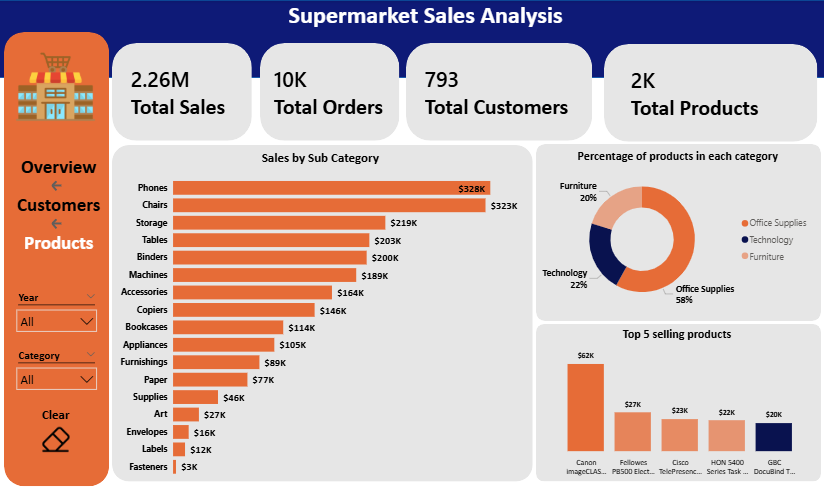

Layout of this report page (visuals, bound fields, positions):
{"tool":"powerbi","page":{"name":" Products","canvas":[1286,750],"ordinal":2},"visuals":[{"type":"shape","box":[9.7,0,1276.3,120],"z":0},{"type":"shape","box":[837,222,439.5,273],"z":0,"group":"g5"},{"type":"shape","box":[942.2,68.1,329.2,150.8],"z":1000},{"type":"donutChart","title":"Percentage of products in each category","fields":{"Y":["CountNonNull(Products.Product Name)"],"Category":["Products.Category"]},"box":[843.6,228.5,424.7,258.4],"z":1000,"group":"g5"},{"type":"shape","box":[837,499.5,439.5,243],"z":1000,"group":"g6"},{"type":"shape","box":[183.3,66.6,215.7,150.8],"z":1005,"group":"g1"},{"type":"shape","box":[411.9,66.6,215,150.8],"z":1006,"group":"g2"},{"type":"shape","box":[637.3,66.6,287.1,150.8],"z":1007,"group":"g3"},{"type":"cardVisual","fields":{"Data":["Measure.Total Sales"]},"box":[183.3,79.6,215.7,126.5],"z":1010,"group":"g1"},{"type":"cardVisual","fields":{"Data":["Measure.Number of orders"]},"box":[403.8,79.6,228.7,126.5],"z":1011,"group":"g2"},{"type":"cardVisual","fields":{"Data":["Measure.Number of Customers"]},"box":[637.3,79.6,300,126.5],"z":1012,"group":"g3"},{"type":"cardVisual","fields":{"Data":["Measure.Number of Products"]},"box":[954,79.5,331.5,126],"z":2000},{"type":"shape","box":[16.2,48.7,162.2,700.6],"z":3000},{"type":"shape","title":"Supermarket Sales Analysis","box":[210.8,0,911.4,43.8],"z":4000},{"type":"shape","title":"Overview","box":[15.1,238.4,171.9,35.7],"z":5000},{"type":"shape","title":"Customers","box":[15.1,297.6,171.9,35.7],"z":6000},{"type":"shape","title":"Products","box":[15.1,356.8,171.9,35.7],"z":7000},{"type":"group","id":"g1","title":"Group 1","box":[183.3,66.6,215.7,150.8],"z":8000},{"type":"group","id":"g2","title":"Group 2","box":[403.8,66.6,228.7,150.8],"z":9000},{"type":"group","id":"g3","title":"Group 3","box":[637.3,66.6,300,150.8],"z":10000},{"type":"group","id":"g4","title":"Group 4","box":[183,224.1,648.9,522.9],"z":11000},{"type":"shape","box":[183,224.1,648.9,519.1],"z":11000,"group":"g4"},{"type":"group","id":"g5","title":"Group 5","box":[837,222,439.5,273],"z":12000},{"type":"clusteredBarChart","title":"Sales by Sub Category","fields":{"Category":["Products.Sub-Category"],"Y":["Sum(Order Details.Sales)"]},"box":[189,231.9,630,515.2],"z":12000,"group":"g4"},{"type":"group","id":"g6","title":"Group 6","box":[837,499.5,439.5,243],"z":13000},{"type":"image","box":[35.7,48.7,121.6,168.7],"z":14000},{"type":"slicer","fields":{"Values":["Order Details.Year"]},"box":[25.9,442.7,144.3,71.4],"z":15000},{"type":"slicer","fields":{"Values":["Products.Category"]},"box":[25.9,531.9,144.3,82.7],"z":16000},{"type":"image","title":"Clear","box":[56.8,627.6,79.5,71.4],"z":17000},{"type":"actionButton","box":[87,333,70.5,24],"z":18000},{"type":"actionButton","box":[87,274.5,70.5,24],"z":19000},{"type":"columnChart","title":"Top 5 selling products ","fields":{"Y":["Sum(Order Details.Sales)"],"Category":["Products.Product Name"]},"box":[841.5,502.5,426,240],"z":19500}]}

Visuals, with their boxes in screenshot pixels (x1, y1, x2, y2), scaled from the page's 1286x750 canvas onto the 824x490 screenshot:
shape: {"left": 6, "top": 0, "right": 823, "bottom": 78}
shape: {"left": 536, "top": 145, "right": 818, "bottom": 323}
shape: {"left": 604, "top": 44, "right": 815, "bottom": 143}
"Percentage of products in each category" donutChart: {"left": 541, "top": 149, "right": 813, "bottom": 318}
shape: {"left": 536, "top": 326, "right": 818, "bottom": 485}
shape: {"left": 117, "top": 44, "right": 256, "bottom": 142}
shape: {"left": 264, "top": 44, "right": 402, "bottom": 142}
shape: {"left": 408, "top": 44, "right": 592, "bottom": 142}
cardVisual - Measure.Total Sales: {"left": 117, "top": 52, "right": 256, "bottom": 135}
cardVisual - Measure.Number of orders: {"left": 259, "top": 52, "right": 405, "bottom": 135}
cardVisual - Measure.Number of Customers: {"left": 408, "top": 52, "right": 601, "bottom": 135}
cardVisual - Measure.Number of Products: {"left": 611, "top": 52, "right": 823, "bottom": 134}
shape: {"left": 10, "top": 32, "right": 114, "bottom": 489}
"Supermarket Sales Analysis" shape: {"left": 135, "top": 0, "right": 719, "bottom": 29}
"Overview" shape: {"left": 10, "top": 156, "right": 120, "bottom": 179}
"Customers" shape: {"left": 10, "top": 194, "right": 120, "bottom": 218}
"Products" shape: {"left": 10, "top": 233, "right": 120, "bottom": 256}
"Group 1" group: {"left": 117, "top": 44, "right": 256, "bottom": 142}
"Group 2" group: {"left": 259, "top": 44, "right": 405, "bottom": 142}
"Group 3" group: {"left": 408, "top": 44, "right": 601, "bottom": 142}
"Group 4" group: {"left": 117, "top": 146, "right": 533, "bottom": 488}
shape: {"left": 117, "top": 146, "right": 533, "bottom": 486}
"Group 5" group: {"left": 536, "top": 145, "right": 818, "bottom": 323}
"Sales by Sub Category" clusteredBarChart: {"left": 121, "top": 152, "right": 525, "bottom": 488}
"Group 6" group: {"left": 536, "top": 326, "right": 818, "bottom": 485}
image: {"left": 23, "top": 32, "right": 101, "bottom": 142}
slicer - Order Details.Year: {"left": 17, "top": 289, "right": 109, "bottom": 336}
slicer - Products.Category: {"left": 17, "top": 348, "right": 109, "bottom": 402}
"Clear" image: {"left": 36, "top": 410, "right": 87, "bottom": 457}
actionButton: {"left": 56, "top": 218, "right": 101, "bottom": 233}
actionButton: {"left": 56, "top": 179, "right": 101, "bottom": 195}
"Top 5 selling products " columnChart: {"left": 539, "top": 328, "right": 812, "bottom": 485}
